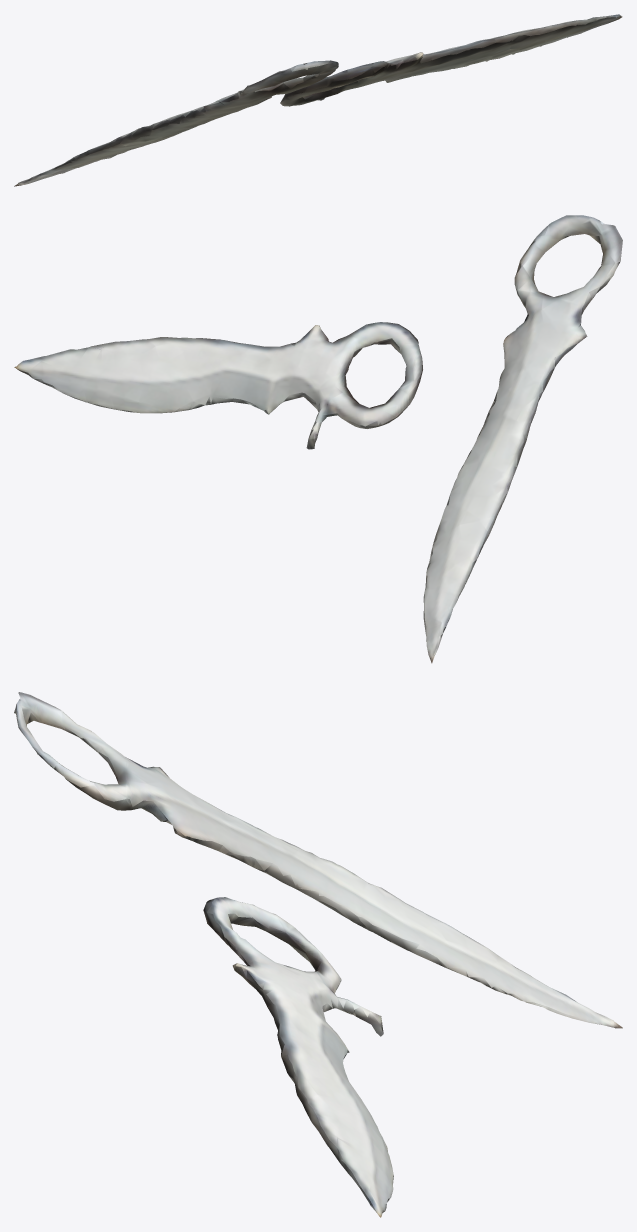
Rendered from kunai.glb.
3 views of the same model, one above another, from view 1: azimuth 30°, elevation 25°; view 2: azimuth 150°, elevation 25°; view 3: azimuth 270°, elevation 25° (orthographic). The views are drawn at different scales.
Visible parts, largest first — view 1: world; view 2: world; view 3: world.
Part boxes in pixels (left/top/right/bottom): world: left=14, top=14, right=622, bottom=186; world: left=14, top=215, right=622, bottom=663; world: left=14, top=692, right=622, bottom=1217.
Size of the model in its own units: 0.8155 by 0.4125 by 0.6234.
Materials: 1 (1 with a texture image).
